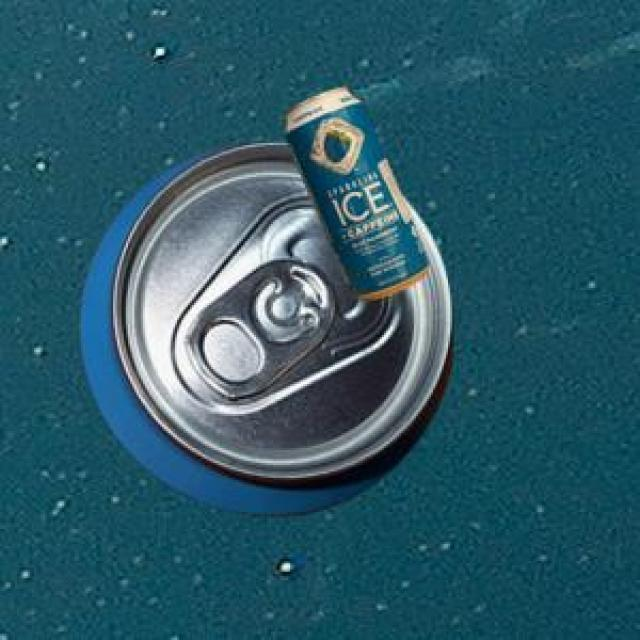Can: (76, 140, 449, 513), (283, 84, 426, 295)
